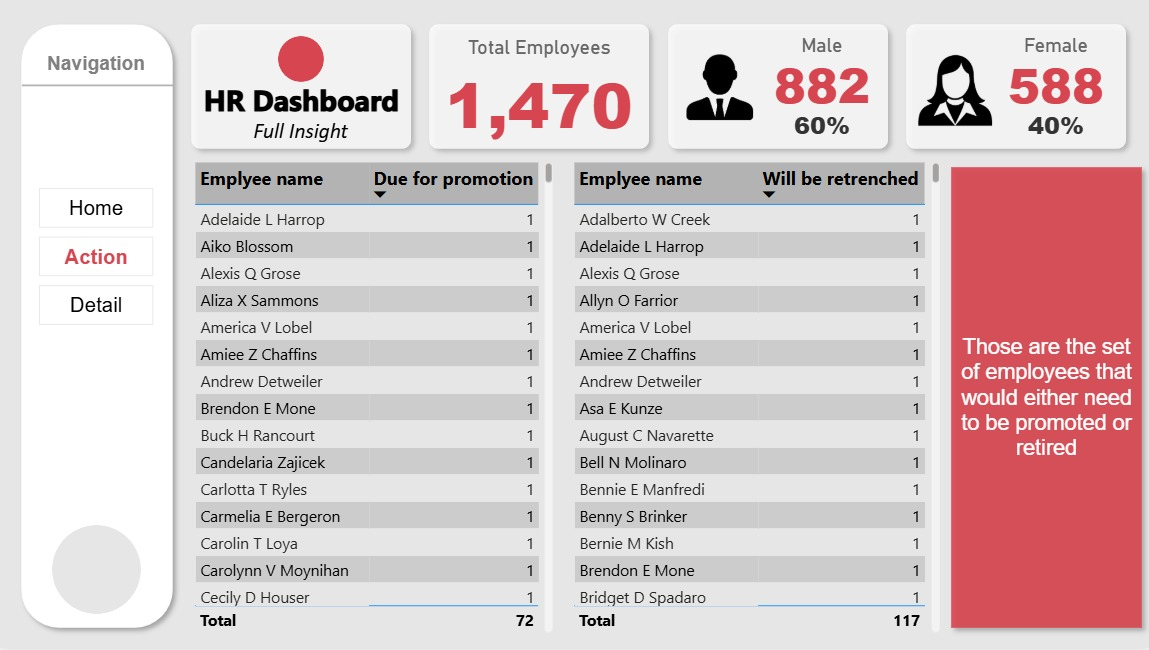

The dashboard page shown, as its layout file describes it:
{"tool":"powerbi","page":{"name":"Action","canvas":[1280,720],"ordinal":1},"visuals":[{"type":"shape","box":[15,17,188.7,690.9],"z":0},{"type":"shape","box":[203.7,17,264.6,158.8],"z":1000},{"type":"shape","box":[468.3,17,264.6,158.8],"z":2000},{"type":"shape","box":[732.9,17,264.6,158.8],"z":3000},{"type":"shape","box":[997.4,17,264.6,158.8],"z":4000},{"type":"textbox","box":[217.8,83.3,236.7,60],"z":5000},{"type":"textbox","box":[216.7,125.6,236.7,38.9],"z":6000},{"type":"shape","box":[310,40,51.1,51.1],"z":7000},{"type":"card","title":"Total Employees","fields":{"Values":["All Measures.Total Emp"]},"box":[482.4,40,236.1,120.1],"z":8000},{"type":"card","title":"Male","fields":{"Values":["All Measures.Male"]},"box":[852,38,124.2,83.1],"z":9000},{"type":"card","title":"Male","fields":{"Values":["All Measures.% male"]},"box":[867.4,111.9,93.4,54.4],"z":10000},{"type":"card","title":"Female","fields":{"Values":["All Measures.Female"]},"box":[1112.7,38,124.2,83.1],"z":11000},{"type":"card","title":"Male","fields":{"Values":["All Measures.% female"]},"box":[1128.1,111.9,93.4,54.4],"z":12000},{"type":"image","box":[758.6,54.4,84.2,85.2],"z":13000},{"type":"image","box":[1014.1,54.4,95.5,92.4],"z":14000},{"type":"tableEx","fields":{"Values":["HR Analytics Data.Emplyee name","All Measures.Due for promotion"]},"box":[212.4,175.6,407.8,532.2],"z":15000},{"type":"tableEx","fields":{"Values":["HR Analytics Data.Emplyee name","All Measures.Will be retrenched"]},"box":[633.5,175.6,416.7,532.2],"z":16000},{"type":"shape","box":[1047.8,175.6,232.2,532.2],"z":17000},{"type":"pageNavigator","box":[44.4,208.9,127.8,153.3],"z":17001},{"type":"shape","box":[58.9,583.3,98.9,98.9],"z":17002},{"type":"textbox","box":[28.9,53.3,157.8,43.3],"z":17003},{"type":"shape","box":[25,89,169,12],"z":17004}]}

Visuals, with their boxes in screenshot pixels (x1, y1, x2, y2), scaled from the page's 1280x720 canvas onto the 1149x650 screenshot:
shape: 13/15/183/639
shape: 183/15/420/159
shape: 420/15/658/159
shape: 658/15/895/159
shape: 895/15/1133/159
textbox: 196/75/408/129
textbox: 195/113/407/149
shape: 278/36/324/82
"Total Employees" card: 433/36/645/145
"Male" card: 765/34/876/109
"Male" card: 779/101/862/150
"Female" card: 999/34/1110/109
"Male" card: 1013/101/1096/150
image: 681/49/757/126
image: 910/49/996/133
tableEx - HR Analytics Data.Emplyee name x All Measures.Due for promotion: 191/159/557/639
tableEx - HR Analytics Data.Emplyee name x All Measures.Will be retrenched: 569/159/943/639
shape: 941/159/1148/639
pageNavigator: 40/189/155/327
shape: 53/527/142/616
textbox: 26/48/168/87
shape: 22/80/174/91
